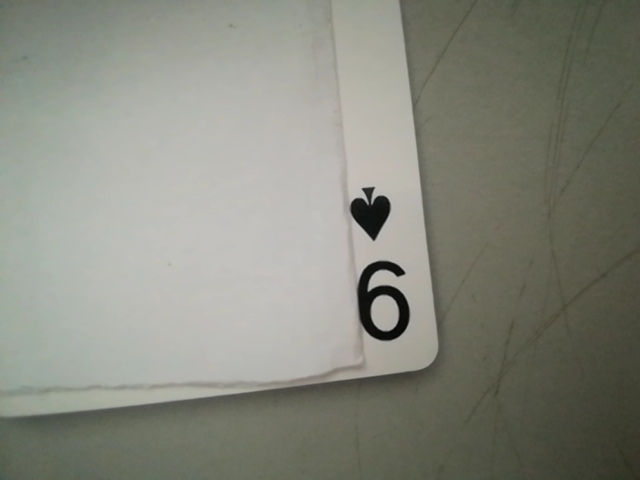ht 9: (339, 177, 431, 360)
